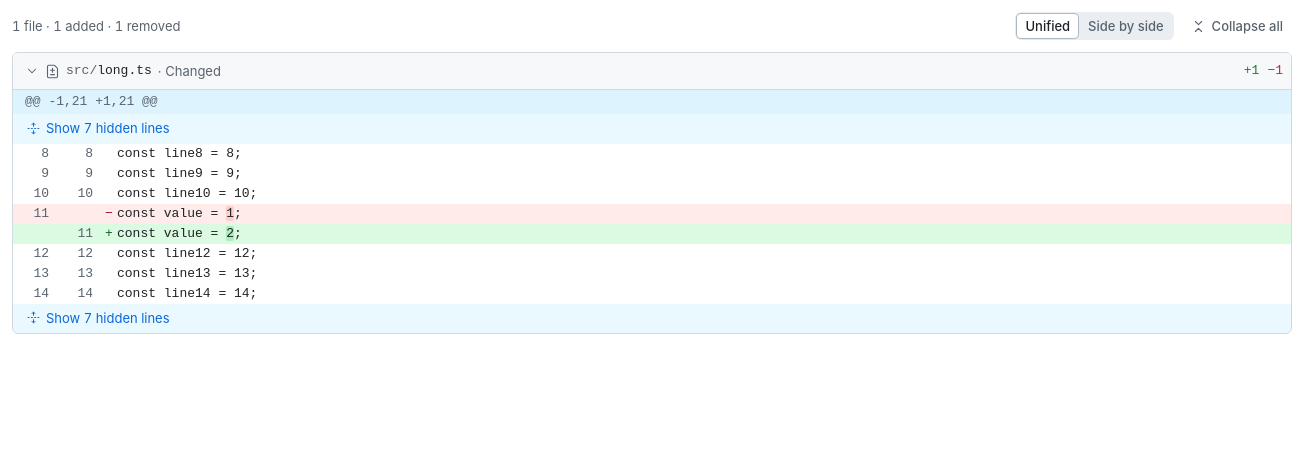
Test: DiffViewer › hides long unchanged runs behind "Show N hidden lines"
Click the 1st button with test id "diff-expand": (98, 128) [21,116,176,140]
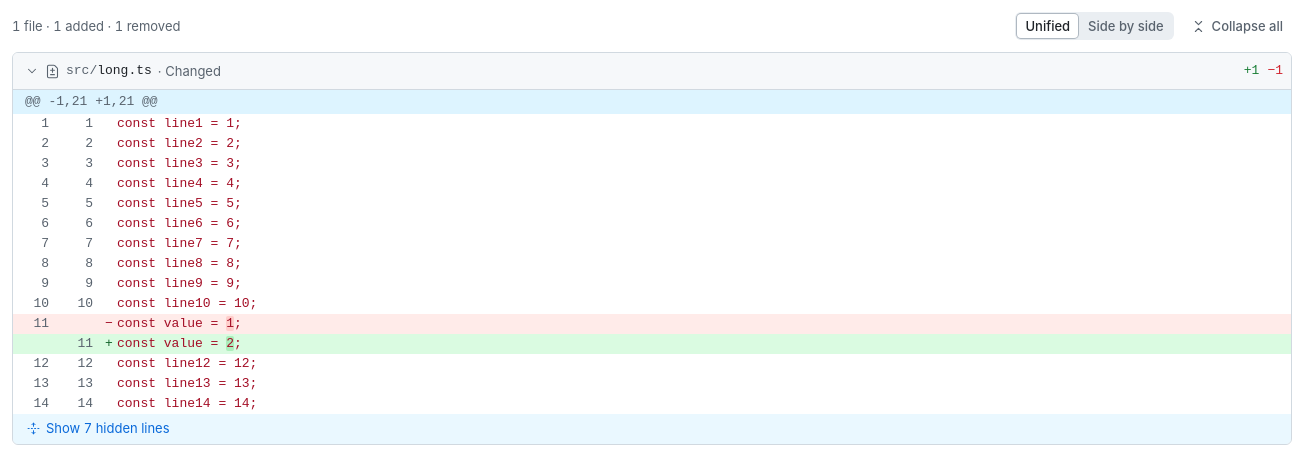
expect the number of buttons with test id "diff-expand" is 1: met, box [21,416,176,440]
expect the 1st cell "1" is shown: met, box [13,114,57,134]
